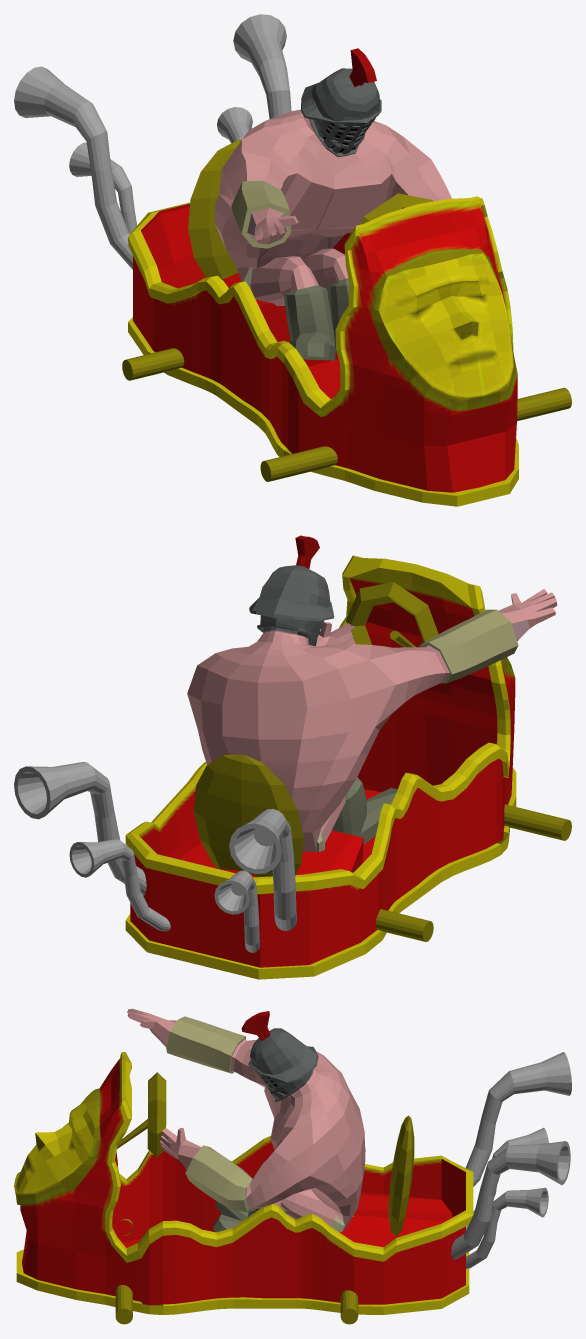
File: gladiVacile_000531.obj
3 renders of one model, top to bottom at view 1: azimuth 30°, elevation 25°; view 2: azimuth 150°, elevation 25°; view 3: azimuth 270°, elevation 25°, orthographic. The views are drawn at different scales.
Parts seen in each view (by area): view 1: GladiChasis_GladiChasisH, Gadiador_Gladiador_H.001, GladiTubos_GladiTubosH, GladiVolante_GladiVolanteH; view 2: GladiChasis_GladiChasisH, Gadiador_Gladiador_H.001, GladiTubos_GladiTubosH, GladiVolante_GladiVolanteH; view 3: GladiChasis_GladiChasisH, Gadiador_Gladiador_H.001, GladiTubos_GladiTubosH, GladiVolante_GladiVolanteH.
Boxes of the visible parts, x1,y1,x2,y2 form: GladiChasis_GladiChasisH: (128,196,518,506); Gadiador_Gladiador_H.001: (214,48,451,360); GladiTubos_GladiTubosH: (14,14,291,269); GladiVolante_GladiVolanteH: (122,139,571,481); GladiChasis_GladiChasisH: (125,555,516,979); Gadiador_Gladiador_H.001: (187,535,557,851); GladiTubos_GladiTubosH: (14,762,296,952); GladiVolante_GladiVolanteH: (193,582,571,941); GladiChasis_GladiChasisH: (14,1052,473,1314); Gadiador_Gladiador_H.001: (127,1008,365,1232); GladiTubos_GladiTubosH: (451,1052,571,1268); GladiVolante_GladiVolanteH: (115,1072,414,1324).
Size of the model in its own units: 5.46 by 5.74 by 10.78.
